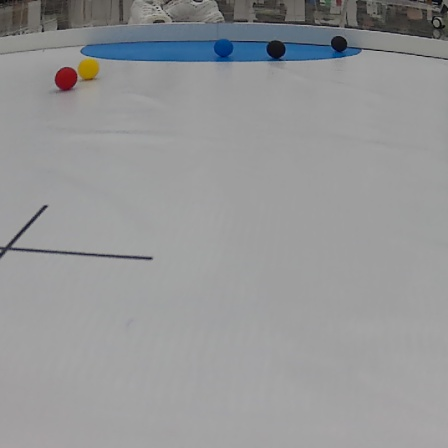black: (264, 38, 288, 60), (330, 34, 350, 55)
blue: (214, 35, 238, 57)
blue_base: (76, 40, 370, 62)
red: (52, 67, 79, 92)
yellow: (77, 57, 102, 82)
